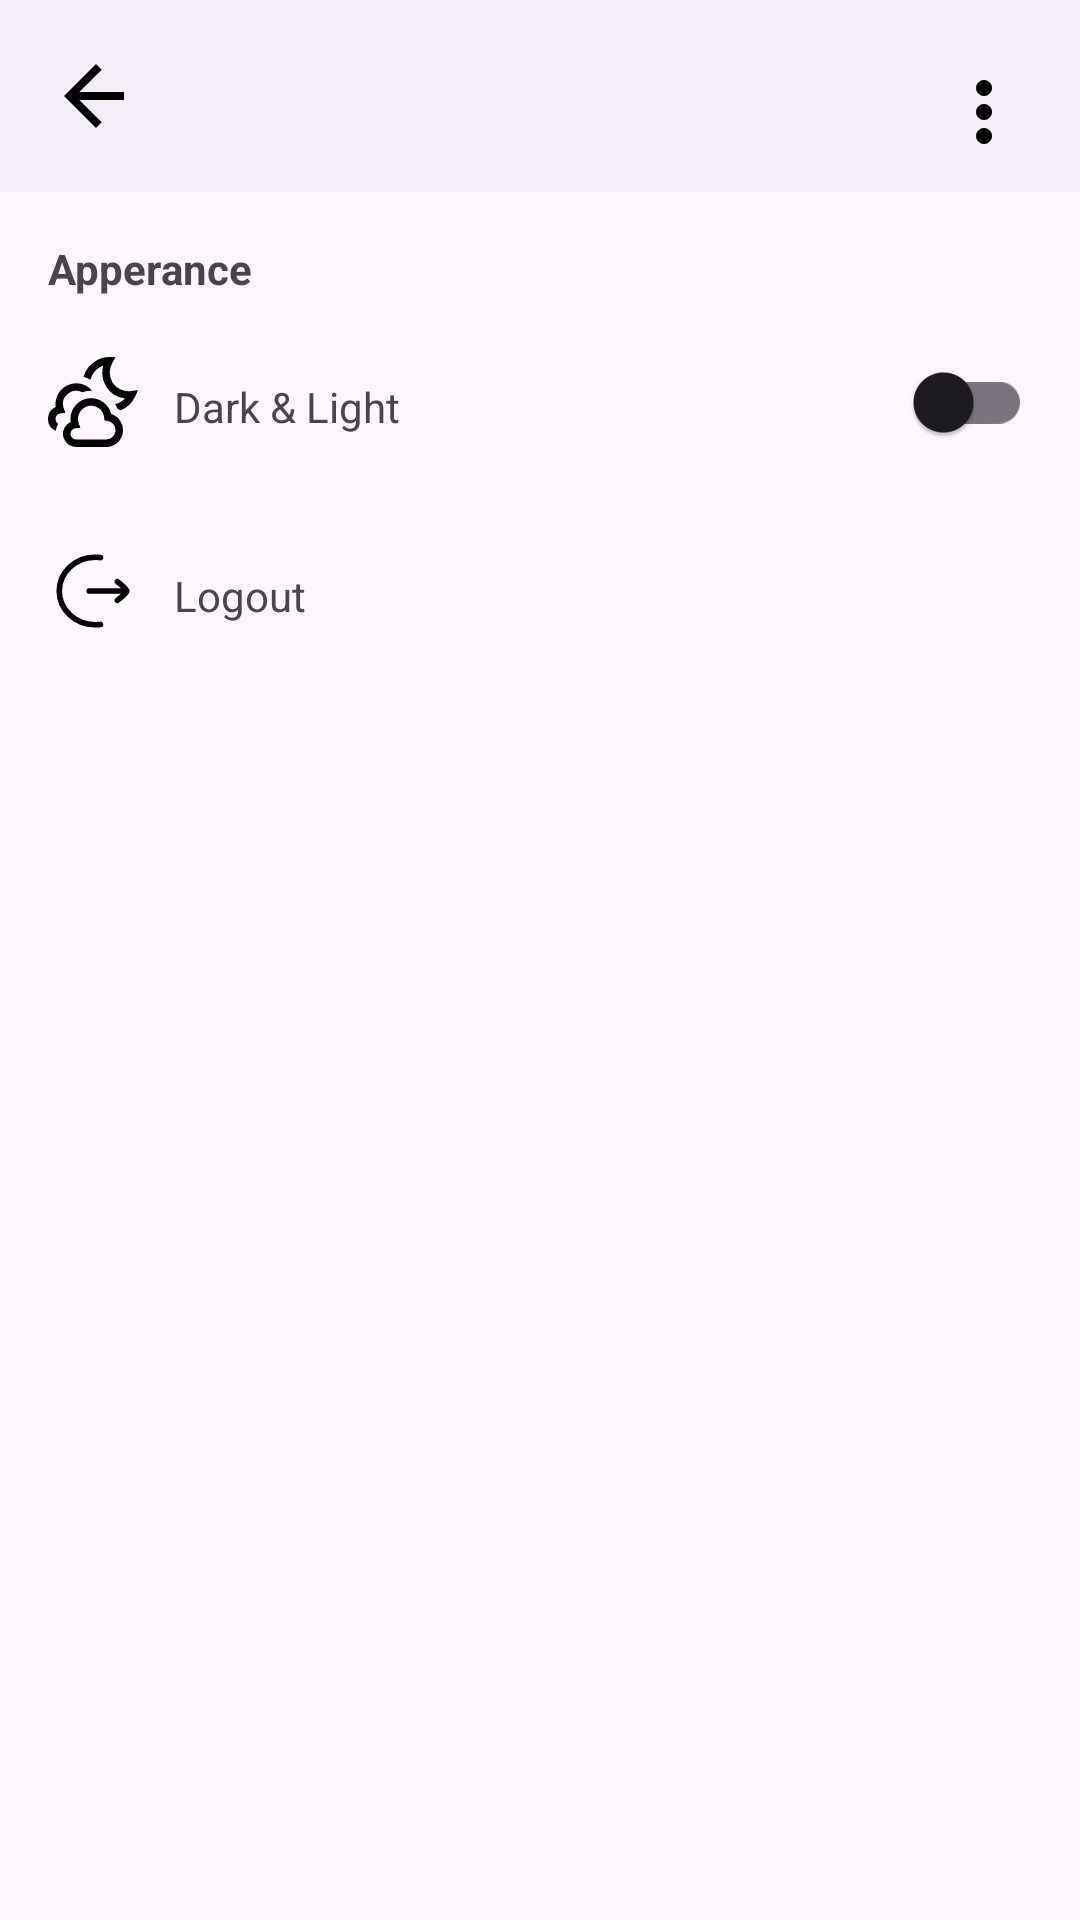

Where icons sit on this 1080×1920 app screen, as [x1,y1,x2,y2]:
Back: [64,64,124,128]
More Option: [976,80,992,144]
